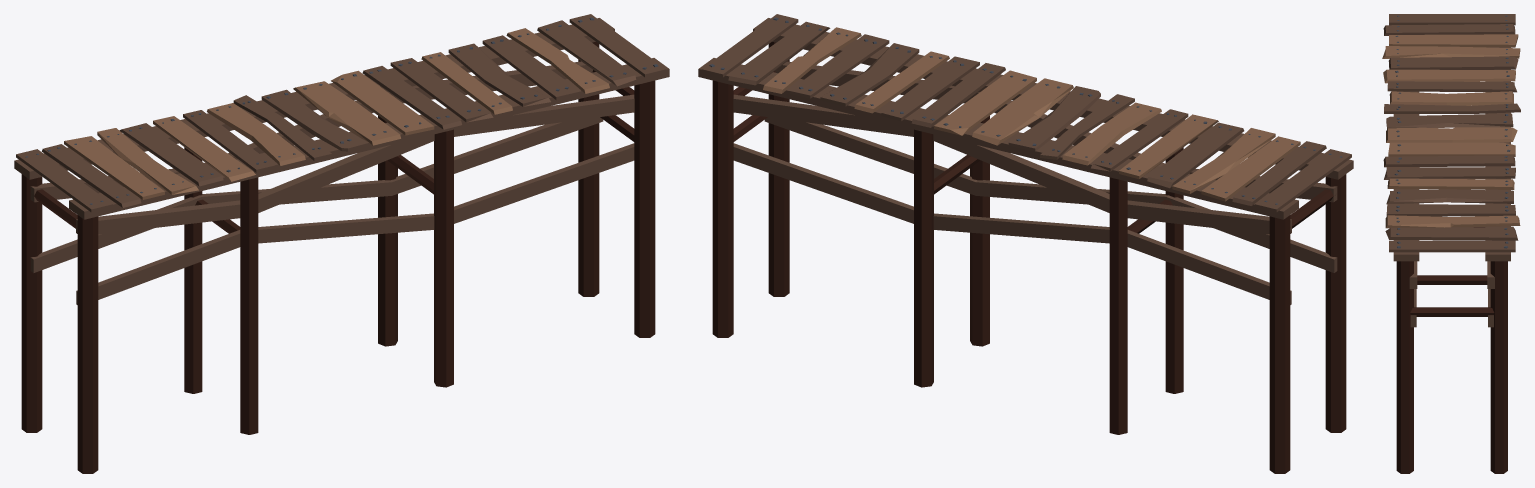
Rendered from FootBridge_1_2 Asia.fbx.
3 renders of one model, left to right at view 1: azimuth 30°, elevation 25°; view 2: azimuth 150°, elevation 25°; view 3: azimuth 270°, elevation 25°, orthographic. The views are drawn at different scales.
Parts seen in each view (by area): view 1: FootBridge_1_2; view 2: FootBridge_1_2; view 3: FootBridge_1_2.
Part boxes in pixels (box(x1,y1,x2,y2)): FootBridge_1_2: box(14, 14, 669, 473); FootBridge_1_2: box(698, 14, 1353, 473); FootBridge_1_2: box(1382, 14, 1520, 473).
Size of the model in its own units: 8.46 by 3.74 by 2.07.
